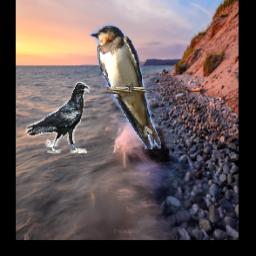Crow: (25, 82, 90, 153)
Swallow: (90, 25, 162, 150)
